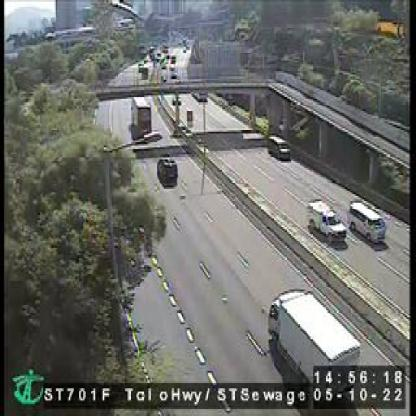Bus: (348, 199, 385, 243)
Car: (307, 198, 344, 238), (154, 156, 176, 185), (266, 135, 288, 158)
Truck: (269, 288, 358, 392), (130, 95, 151, 132)
